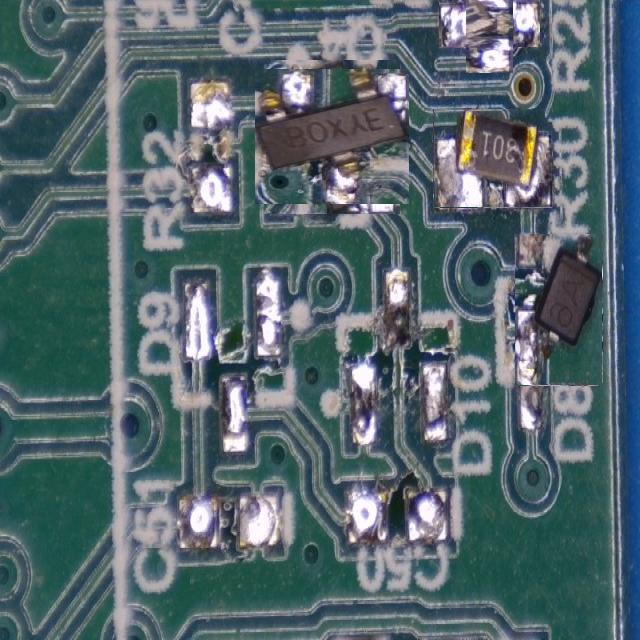Incorrect_installation: (256, 69, 408, 203), (516, 235, 601, 384), (433, 110, 552, 206), (466, 0, 512, 73)
